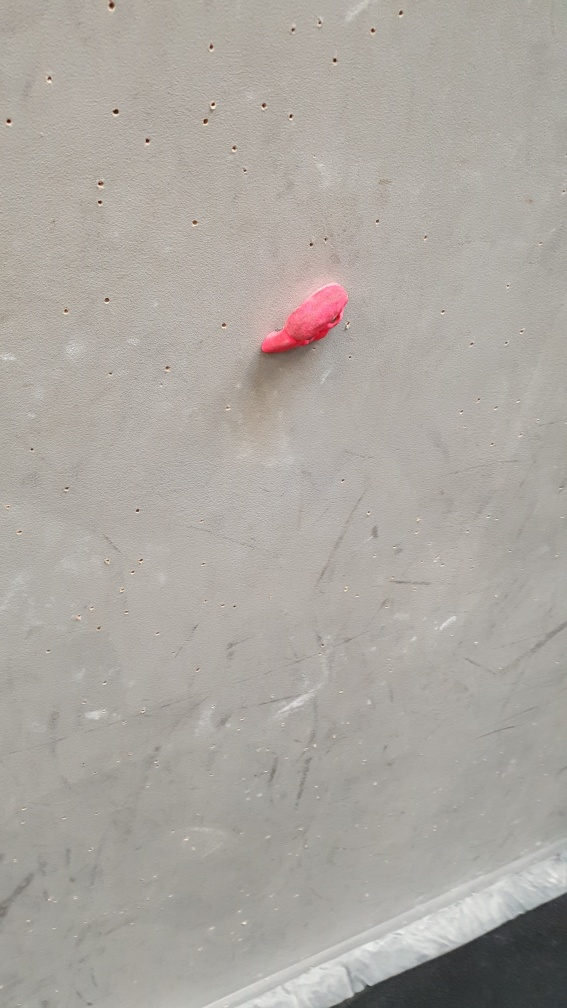Jug: (259, 285, 345, 354)
